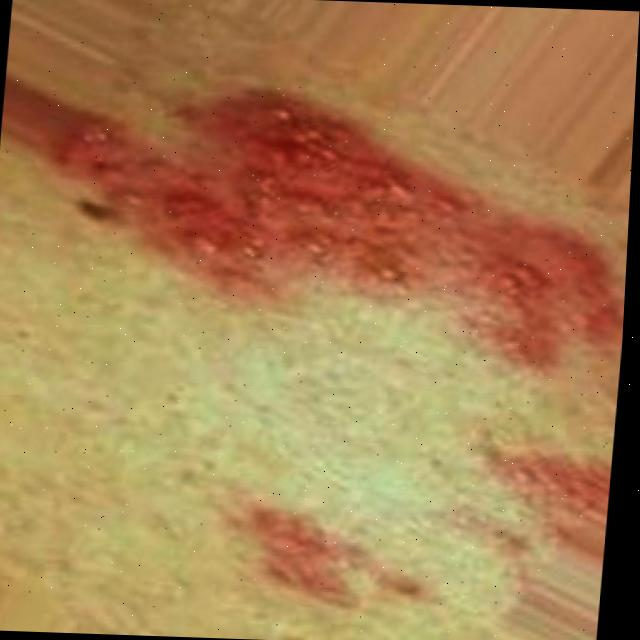Shingles: (50, 77, 636, 366), (257, 434, 599, 611)
